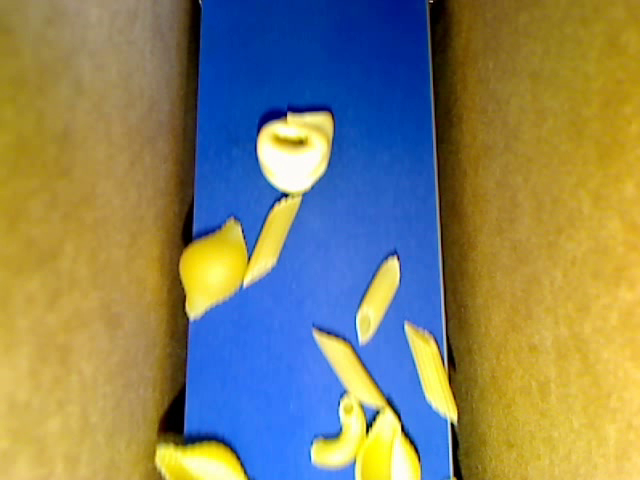elbow: (310, 394, 366, 470)
penne: (311, 328, 388, 410), (242, 193, 304, 288), (404, 321, 458, 425), (355, 254, 401, 346)
shell: (177, 215, 246, 319), (354, 406, 421, 479), (154, 441, 249, 479)
tortellini: (257, 108, 334, 196)
